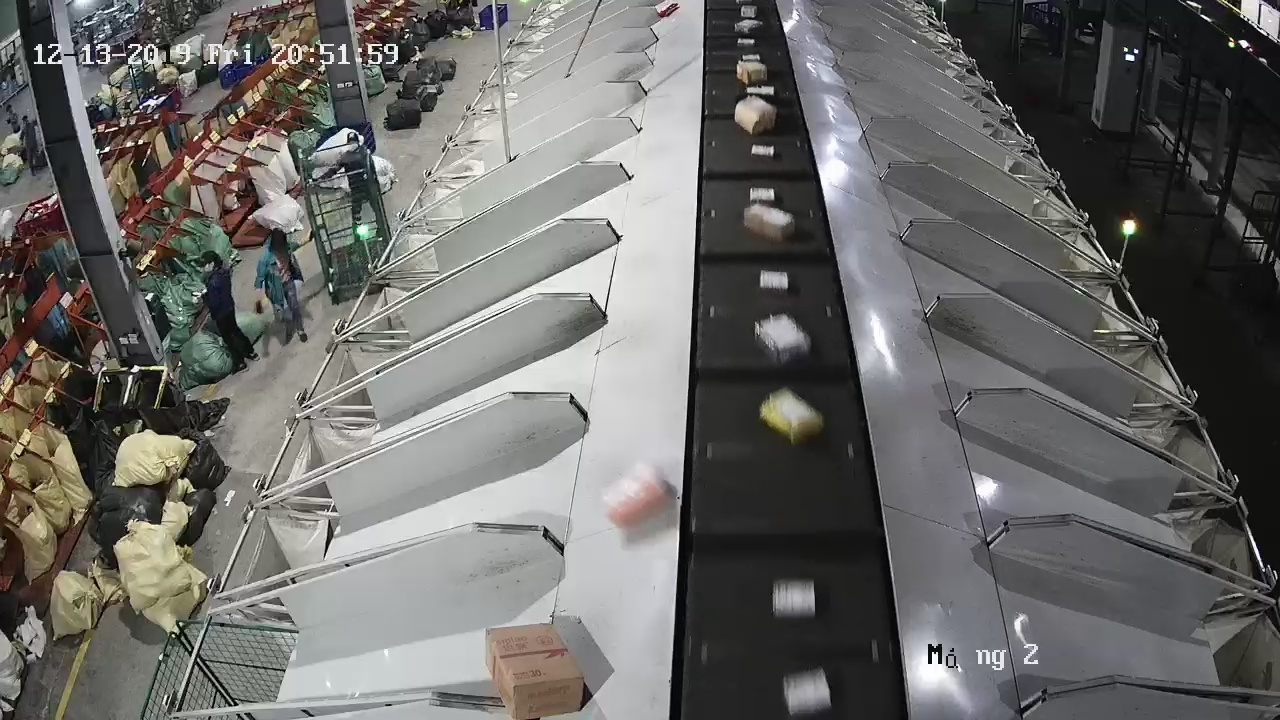parcel: (599, 461, 673, 531)
